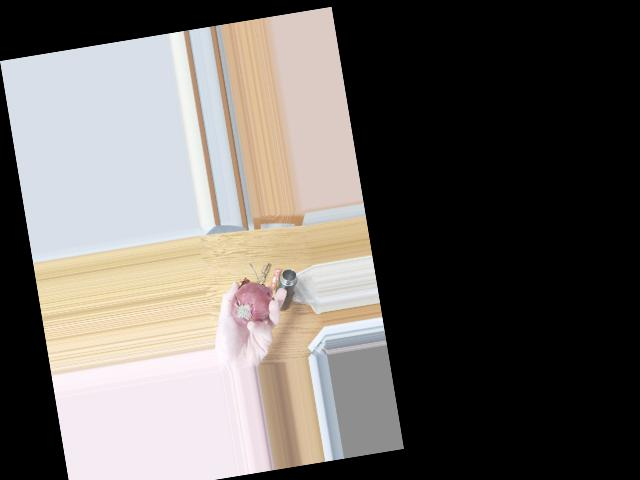onion: (224, 282, 273, 331)
